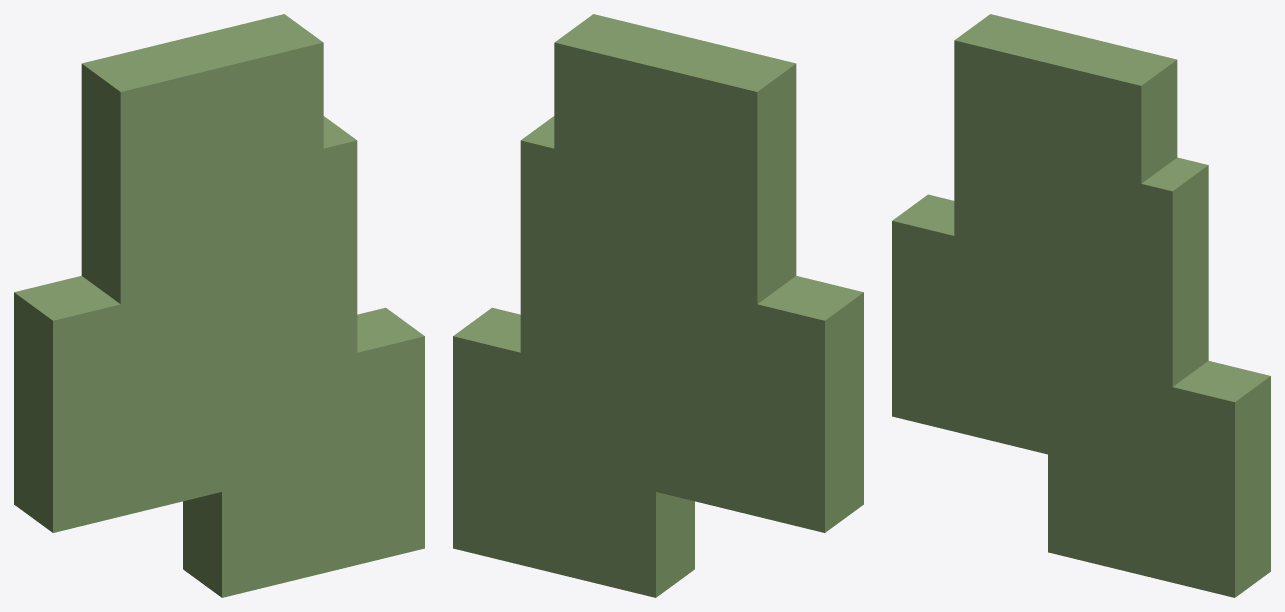
The model's file is chumbera_02.glb.
3 renders of one model, left to right at view 1: azimuth 30°, elevation 25°; view 2: azimuth 150°, elevation 25°; view 3: azimuth 330°, elevation 25°, orthographic. The views are drawn at different scales.
Visible parts, largest first — view 1: chumbera_02; view 2: chumbera_02; view 3: chumbera_02.
Part boxes in pixels (x1,y1,x2,y2): chumbera_02: [14, 14, 424, 597]; chumbera_02: [453, 14, 863, 597]; chumbera_02: [892, 14, 1270, 597].
Bounding box in the file's own units: 1.1 × 1.5 × 0.2.
